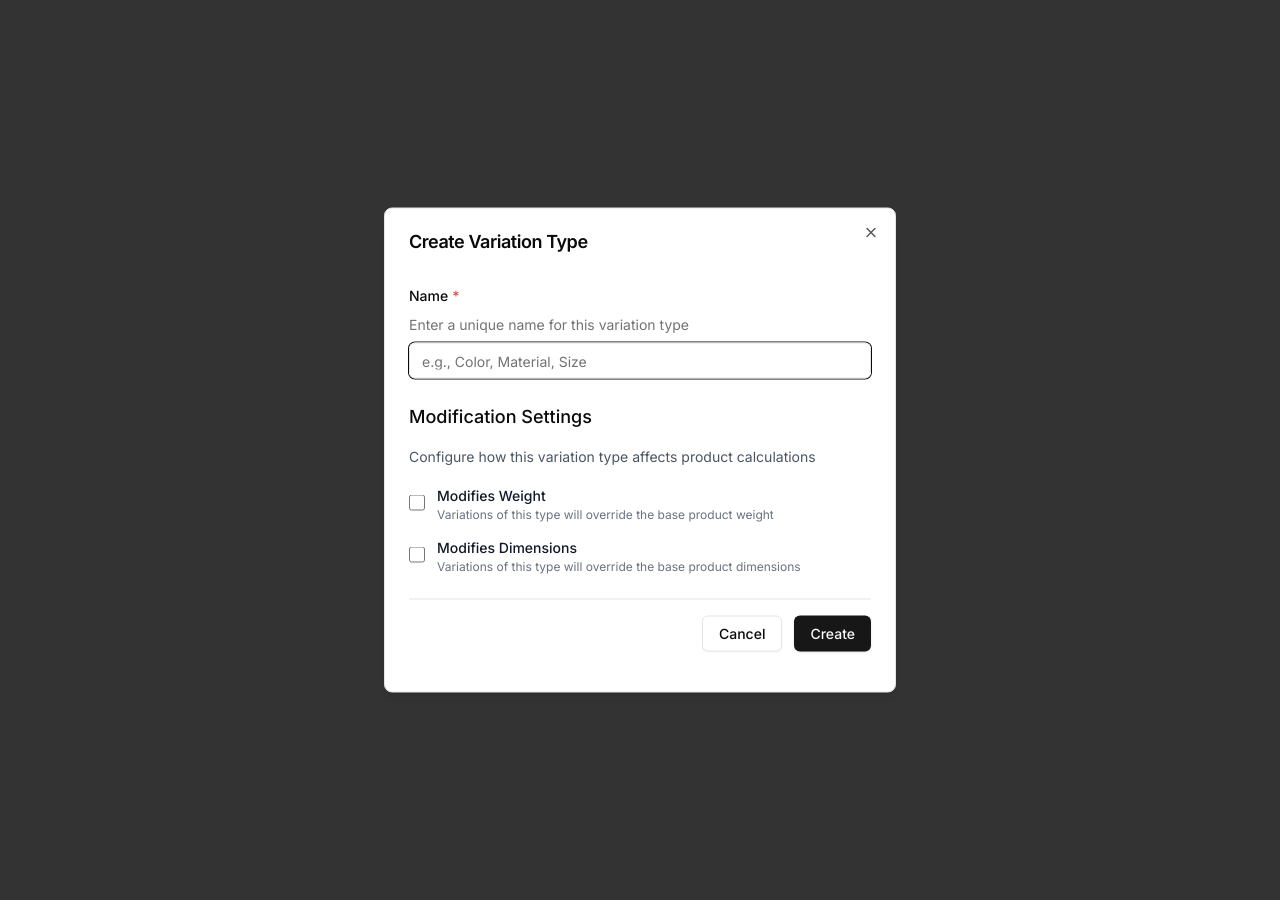
Test: VariationTypeForm › validates name format
The image size is (1280, 900).
Type "Invalid@Name!" into the field labelled "Name*" at (640, 360), box [409,342,871,378]
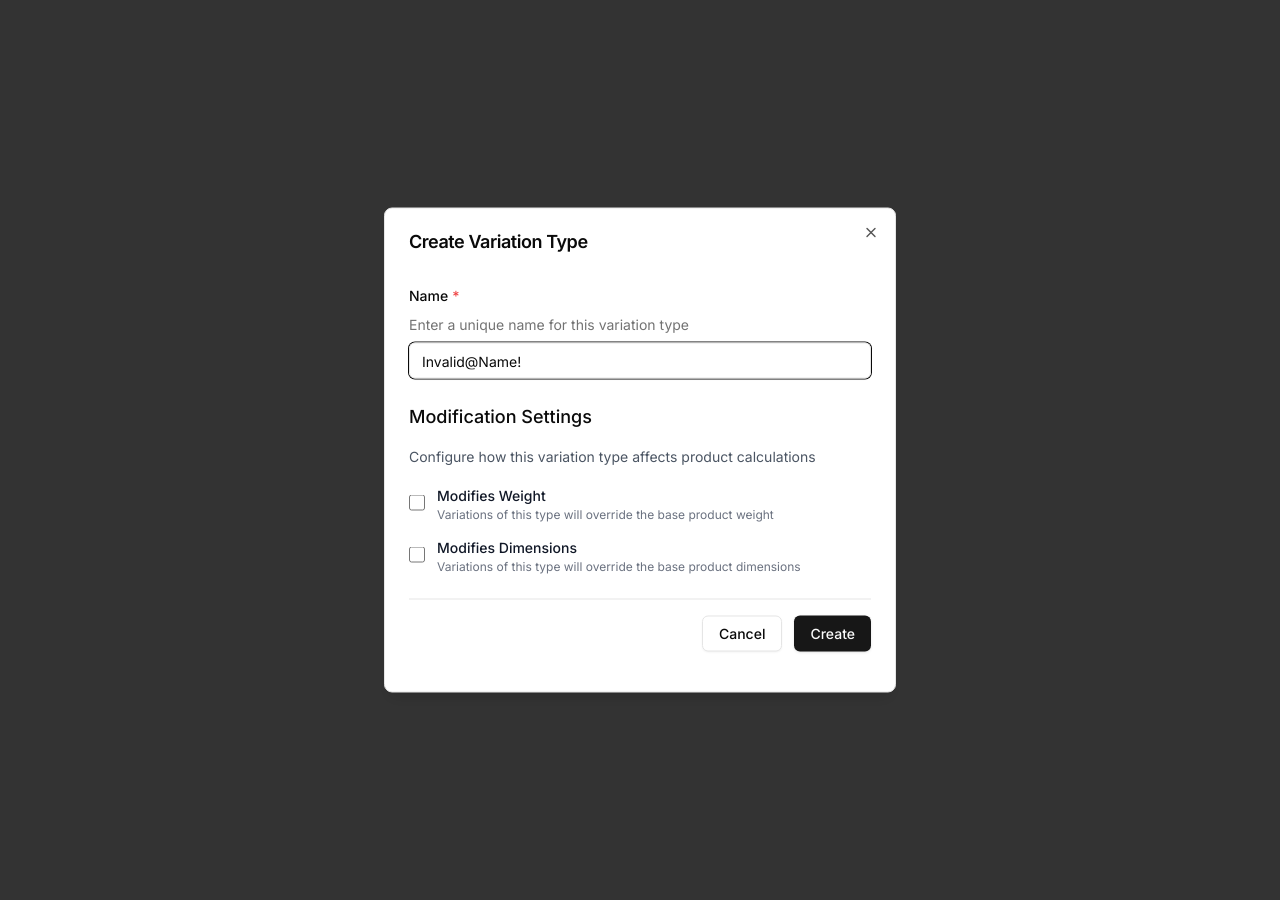
Click the button "Create" at (833, 634), box [794,616,871,652]
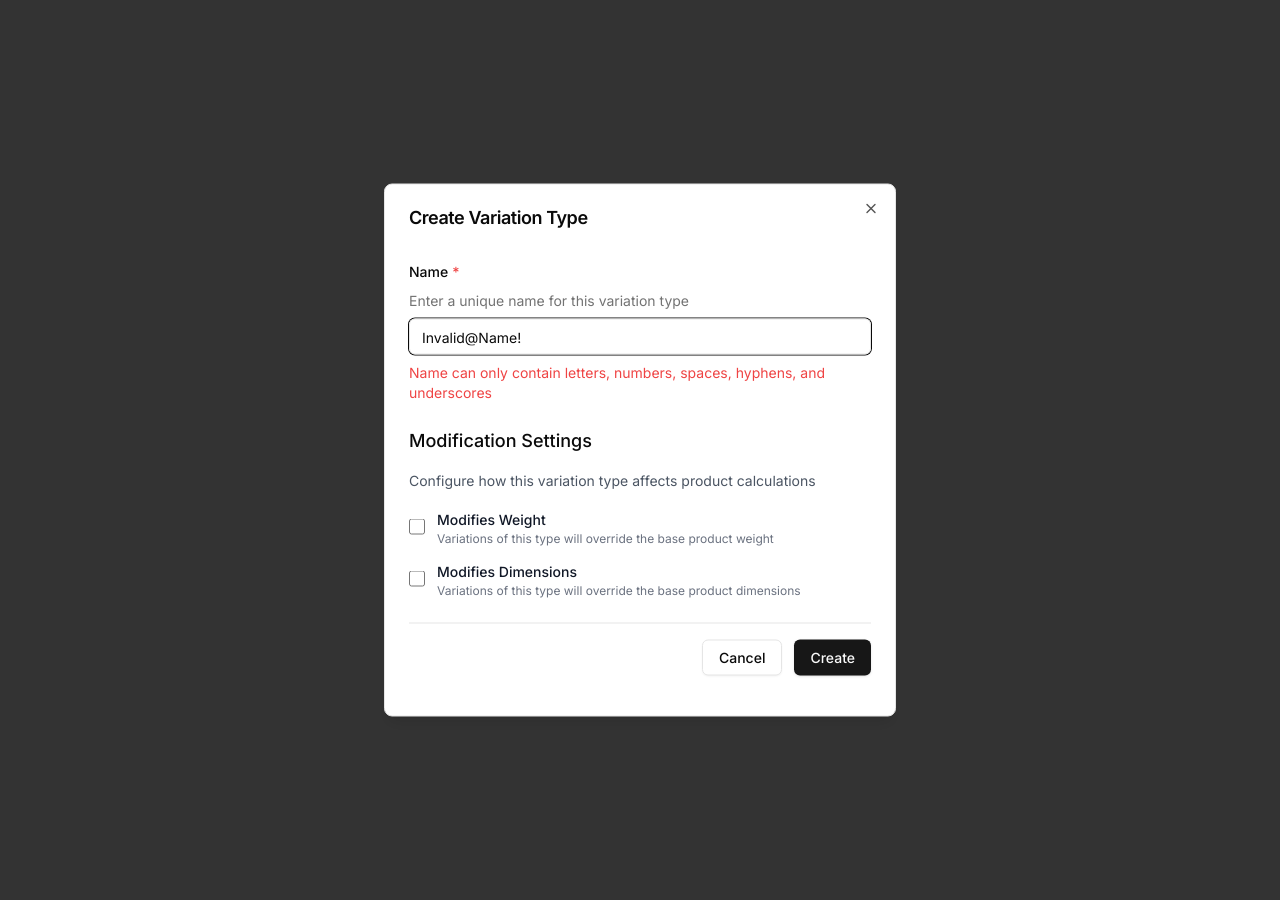
Expected: the text "Name can only contain letters, numbers, spaces, hyphens, and underscores" is shown, [409,362,871,402]
